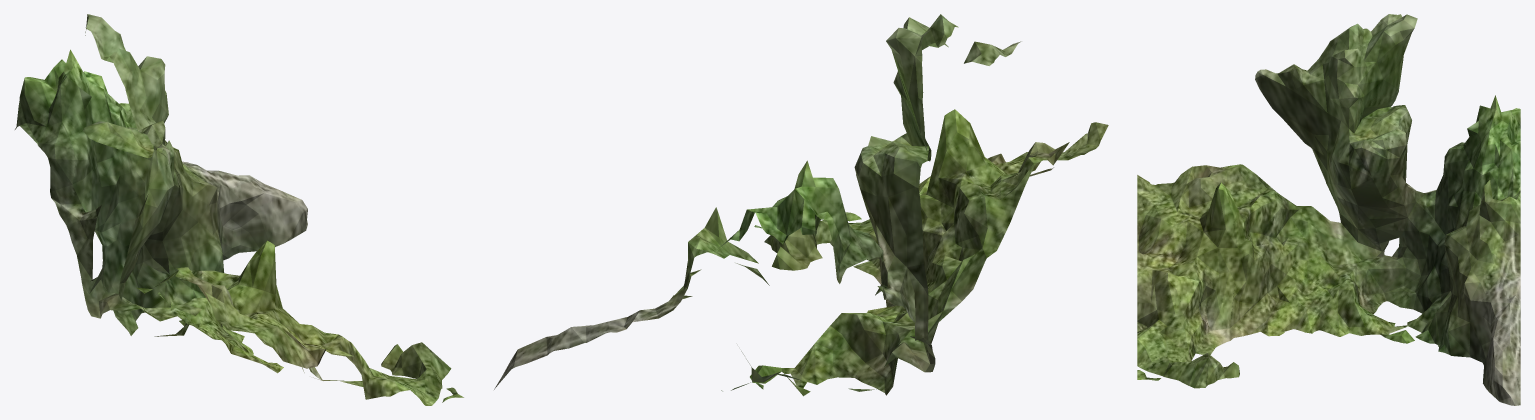
3 renders of one model, left to right at view 1: azimuth 30°, elevation 25°; view 2: azimuth 150°, elevation 25°; view 3: azimuth 270°, elevation 25°, orthographic. The views are drawn at different scales.
Size of the model in its own units: 4.42 by 4.65 by 5.9.
Materials: 3 (3 with a texture image).
